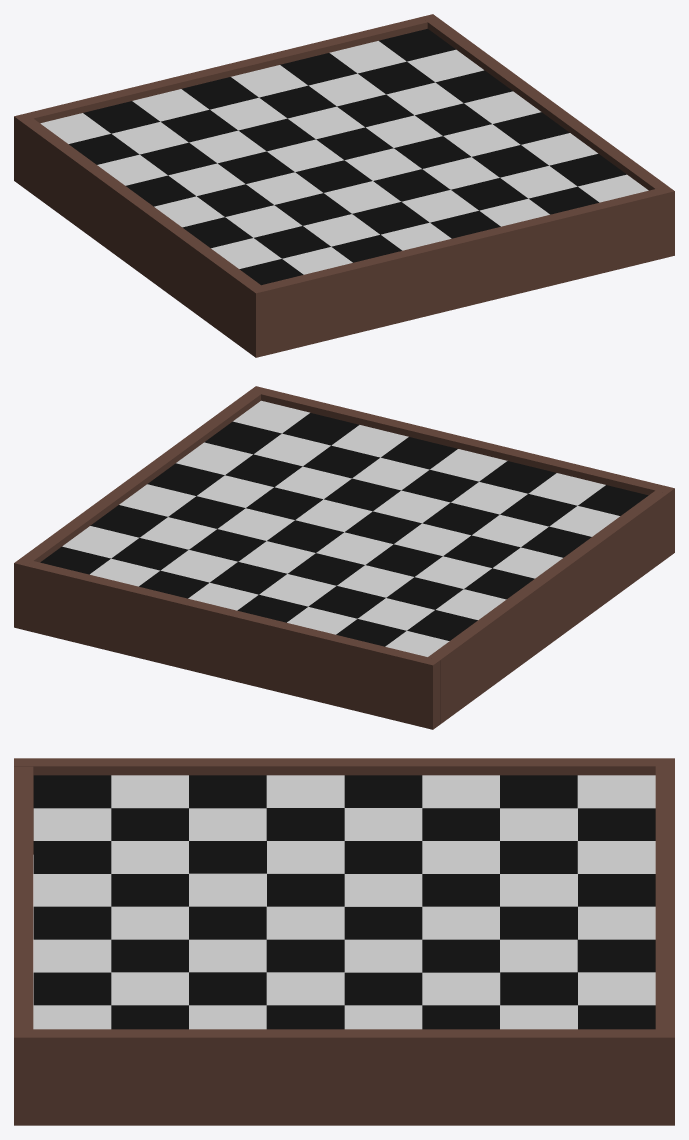
File: chessboardCentered.gltf
3 renders of one model, top to bottom at view 1: azimuth 30°, elevation 25°; view 2: azimuth 150°, elevation 25°; view 3: azimuth 270°, elevation 25°, orthographic. The views are drawn at different scales.
Visible parts, largest first — view 1: node_MeshObject1316465664-PolyPaper21; view 2: node_MeshObject1316465664-PolyPaper21; view 3: node_MeshObject1316465664-PolyPaper21.
Part boxes in pixels (x1,y1,x2,y2): node_MeshObject1316465664-PolyPaper21: [14, 14, 674, 357]; node_MeshObject1316465664-PolyPaper21: [14, 386, 674, 729]; node_MeshObject1316465664-PolyPaper21: [14, 758, 674, 1125].
Size of the model in its own units: 0.68 by 0.1001 by 0.68.
